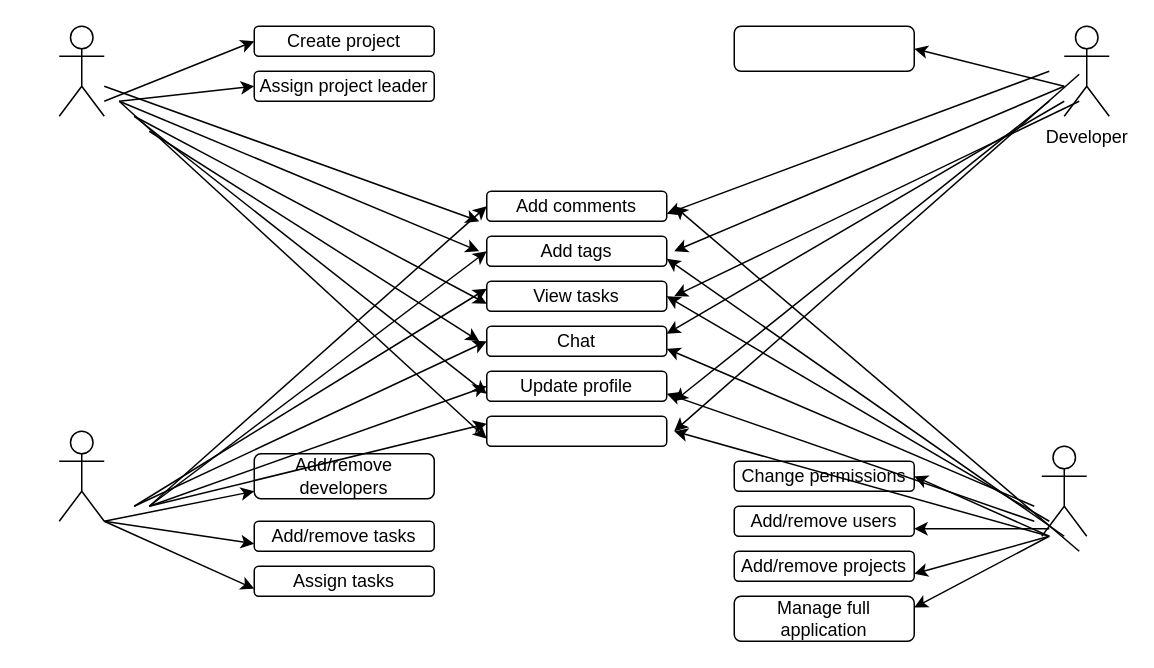
This 1154x668 diagram has some shape labels left out. Each missing label, with the box of its shape:
Admin: (1040, 445, 1087, 536)
Group Leader: (58, 25, 104, 116)
Login/logout: (485, 415, 667, 446)
Project leader: (58, 430, 104, 521)
Request task verification: (733, 25, 914, 71)
